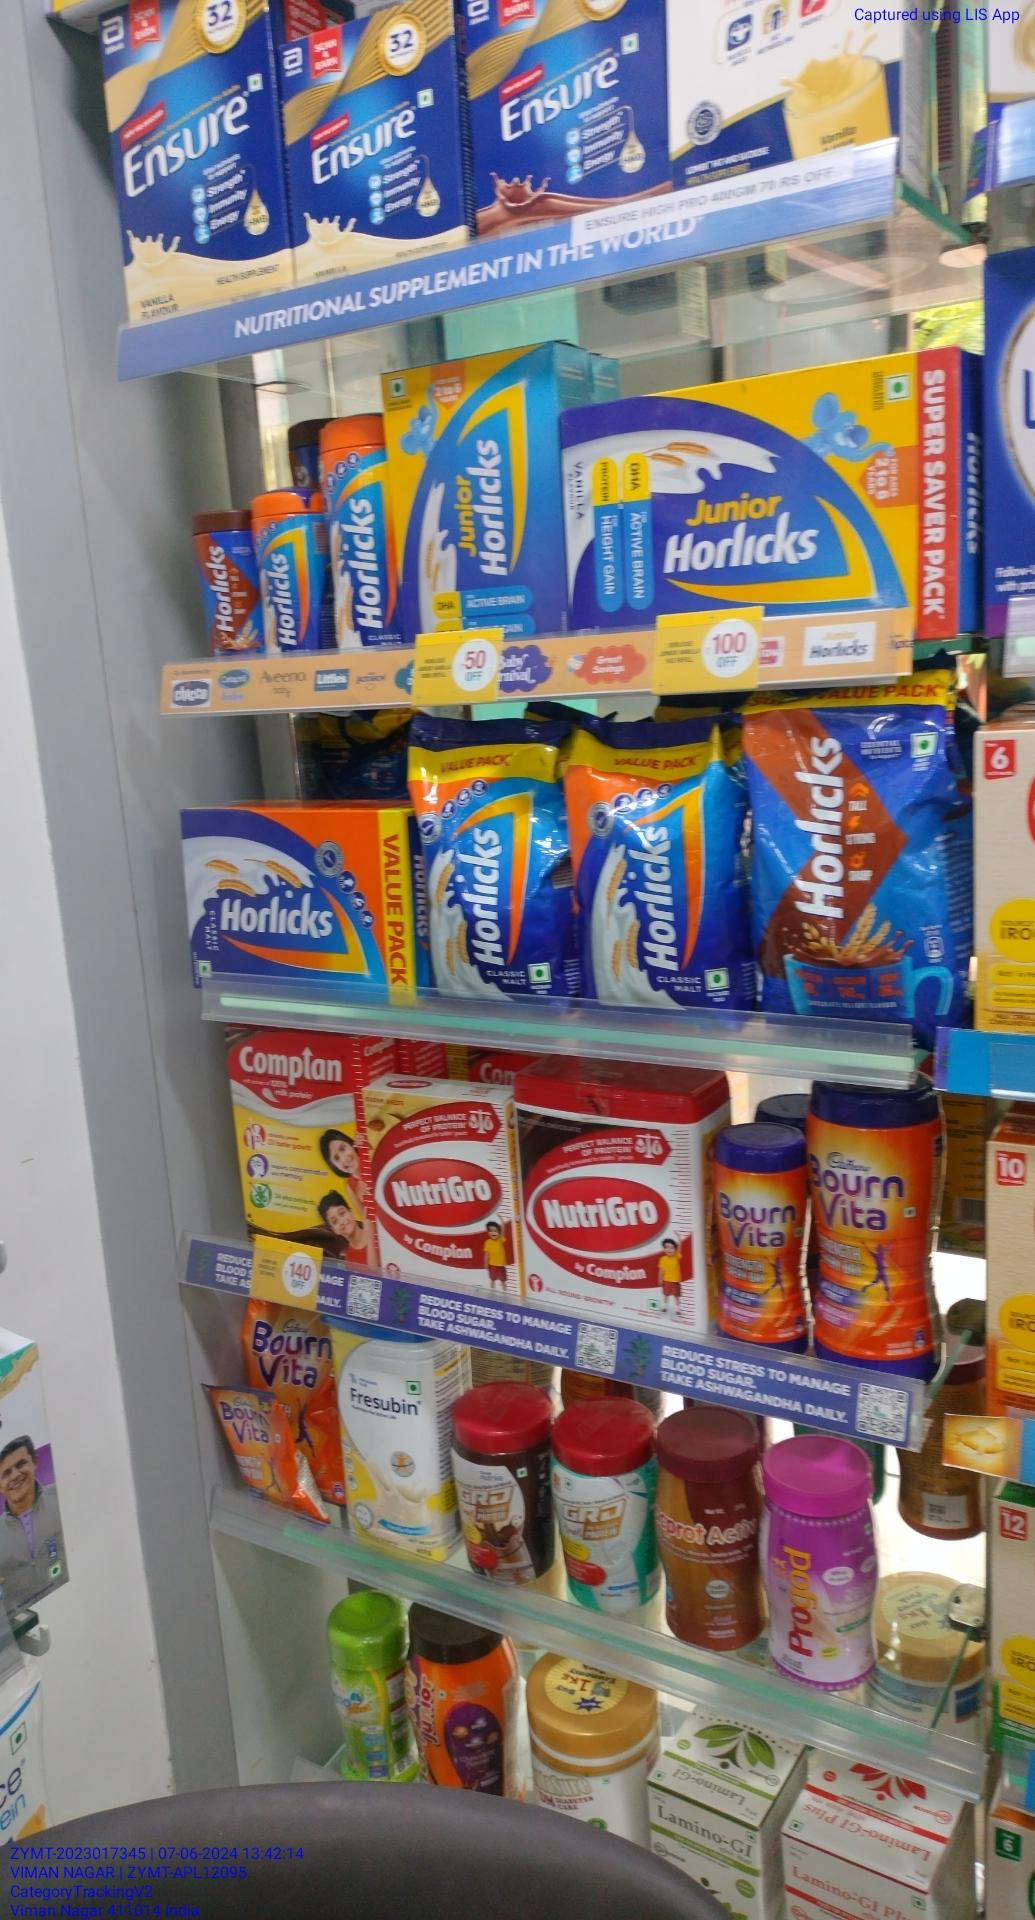BOURN_VITA_200_G_JAR: (710, 1136, 809, 1353)
ENSURE_VANILLA_400_G_PACK: (286, 13, 455, 269)
HORLICK_CLASSIC_MALT_200_G_JAR: (256, 487, 316, 659)
HORLICK_CLASSIC_MALT_500_G_JAR: (319, 405, 380, 654)
HORLICK_CLASSIC_MALT_750_G_POUCH: (585, 727, 730, 1023), (416, 730, 560, 1015)
